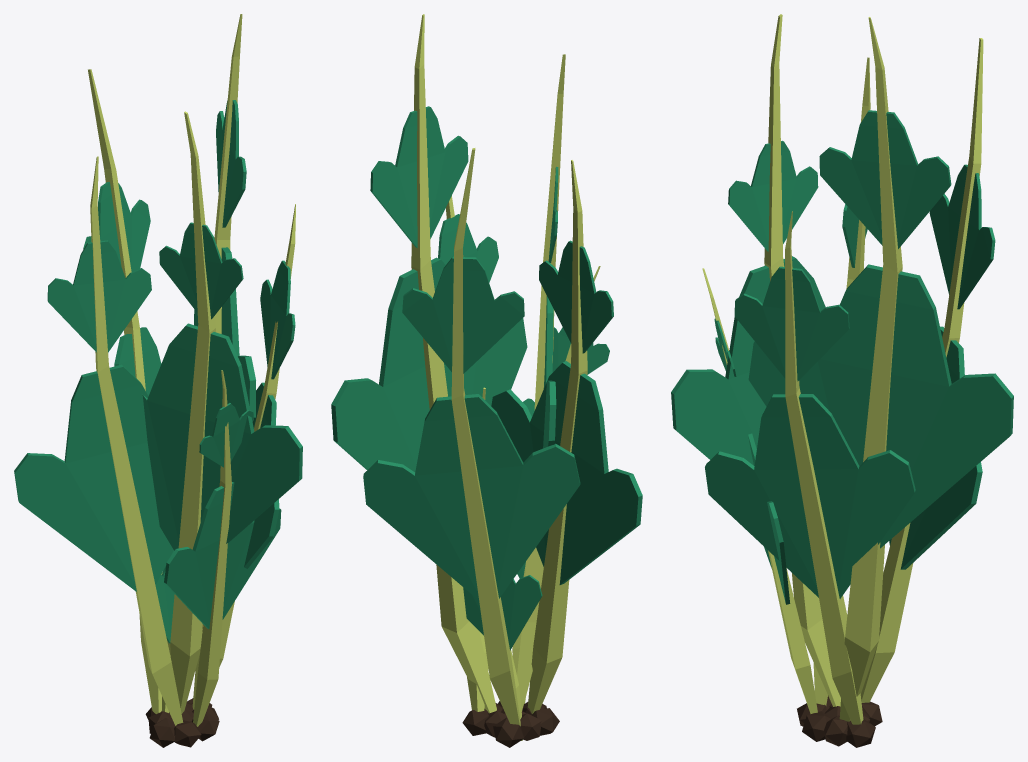
Rendered from Carrot_5.fbx.
The picture shows the model from 3 angles, left to right: view 1: azimuth 30°, elevation 25°; view 2: azimuth 150°, elevation 25°; view 3: azimuth 270°, elevation 25°; orthographic projection. The views are drawn at different scales.
Visible parts, largest first — view 1: 5_Carrot; view 2: 5_Carrot; view 3: 5_Carrot.
Boxes of the visible parts, bbox=[...] form: 5_Carrot: bbox=[14, 14, 302, 747]; 5_Carrot: bbox=[331, 14, 642, 747]; 5_Carrot: bbox=[671, 14, 1013, 747].
Size of the model in its own units: 25.92 by 70.25 by 28.87.
